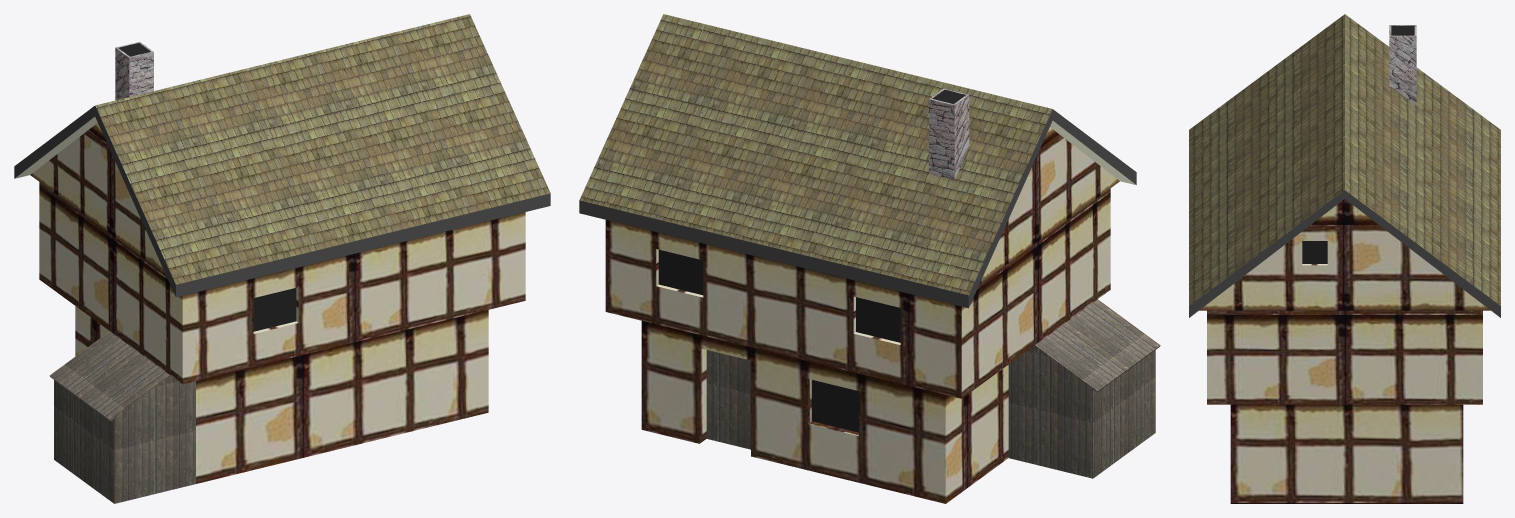
The model's file is farm.dae.
The picture shows the model from 3 angles, left to right: view 1: azimuth 30°, elevation 25°; view 2: azimuth 150°, elevation 25°; view 3: azimuth 270°, elevation 25°; orthographic projection. The views are drawn at different scales.
Parts seen in each view (by area): view 1: Model, Group1, Group3; view 2: Model, Group1, Group4; view 3: Model, Group1, Group2.
Boxes of the visible parts, <box> form: Model: <box>14,14,550,503</box>; Group1: <box>115,41,153,100</box>; Group3: <box>253,287,298,333</box>; Model: <box>579,14,1160,503</box>; Group1: <box>929,88,969,179</box>; Group4: <box>853,296,900,344</box>; Model: <box>1189,14,1500,503</box>; Group1: <box>1389,25,1416,105</box>; Group2: <box>1302,241,1327,265</box>.
Size of the model in its own units: 10.03 by 6.7 by 8.28.
8 materials, 5 textured.
